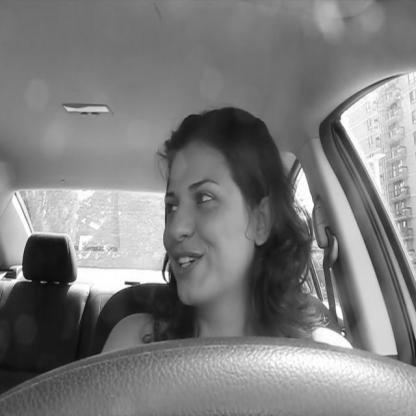no-seatbelt: (156, 100, 343, 416)
